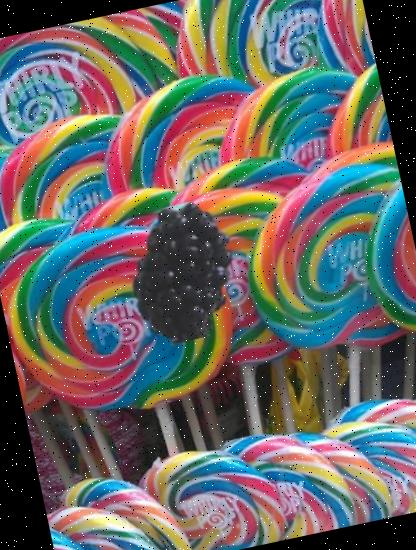Mulberry: (102, 192, 264, 354)
